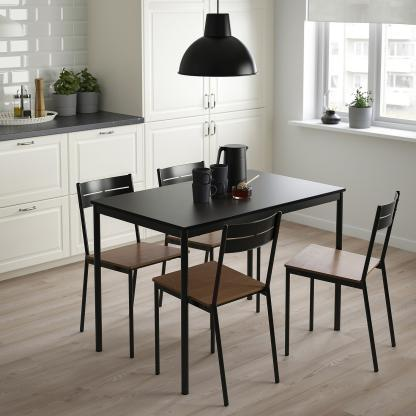chair: (148, 209, 287, 409), (282, 188, 407, 376), (67, 167, 193, 353)
light: (170, 2, 267, 83)
table: (85, 147, 348, 332)
